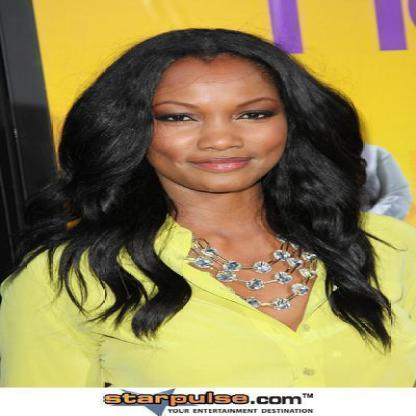long-hair: (59, 192, 367, 240)
